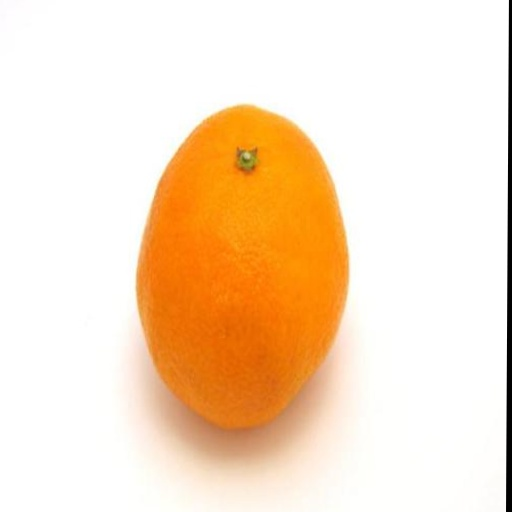fruit: (137, 106, 347, 428)
